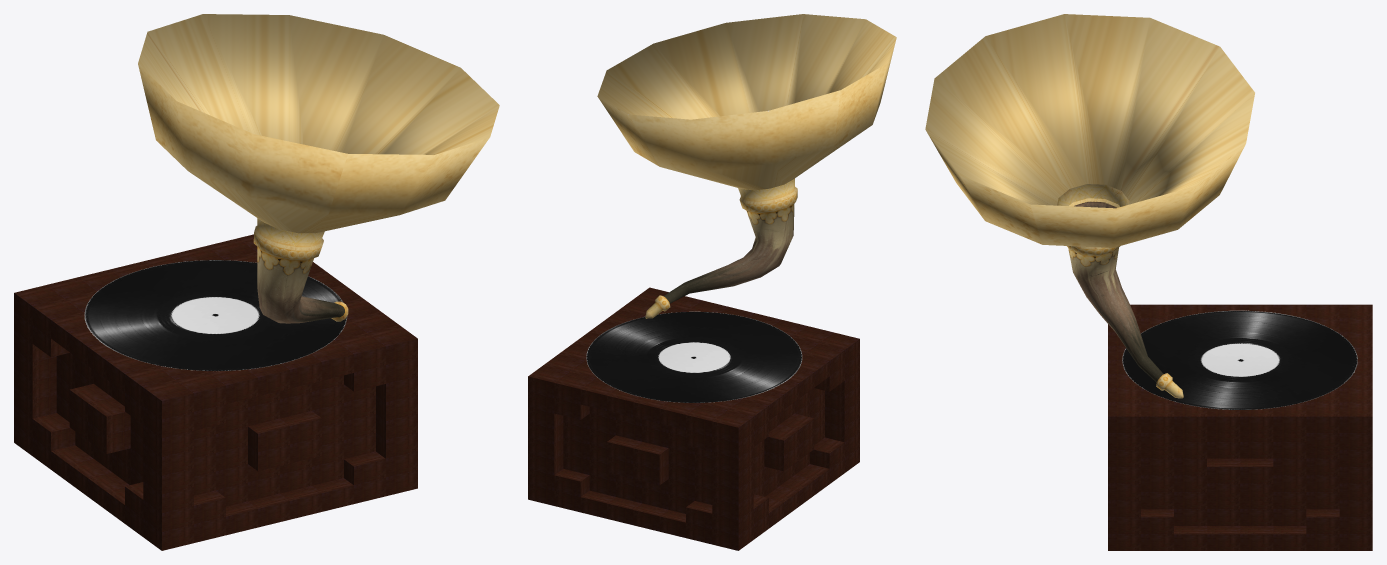
File: tocadiscos.fbx
3 views of the same model, side by side, from view 1: azimuth 30°, elevation 25°; view 2: azimuth 150°, elevation 25°; view 3: azimuth 270°, elevation 25° (orthographic). The views are drawn at different scales.
Parts seen in each view (by area): view 1: Cube, medieval_drinking_horn, Cylinder; view 2: Cube, medieval_drinking_horn, Cylinder; view 3: medieval_drinking_horn, Cube, Cylinder.
Boxes of the visible parts, x1,y1,x2,y2 form: Cube: [14, 234, 417, 550]; medieval_drinking_horn: [138, 14, 499, 323]; Cylinder: [84, 260, 347, 370]; Cube: [528, 287, 859, 550]; medieval_drinking_horn: [597, 14, 896, 318]; Cylinder: [586, 311, 802, 402]; medieval_drinking_horn: [925, 14, 1254, 398]; Cube: [1108, 304, 1372, 550]; Cylinder: [1122, 310, 1357, 409].
Size of the model in its own units: 245 by 351 by 338.
Materials: 3 (3 with a texture image).
